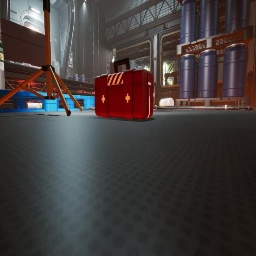0: (0, 40, 5, 90), (159, 98, 174, 107), (26, 103, 42, 109)
FireExtinguisher ]: (74, 103, 78, 109), (173, 109, 173, 110)
FirstAidBox ,: (95, 57, 154, 120)
SafetySwitchPanel ,: (69, 52, 74, 68)
